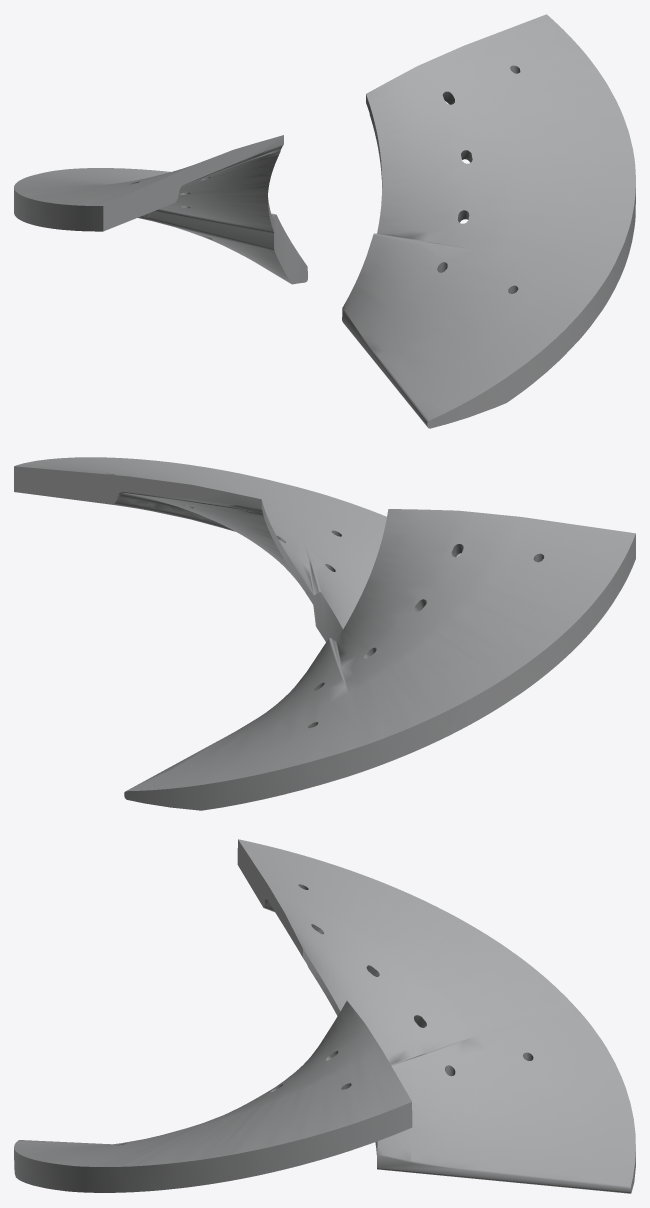
File: verti-shoe-liners.glb
The picture shows the model from 3 angles, top to bottom: view 1: azimuth 30°, elevation 25°; view 2: azimuth 150°, elevation 25°; view 3: azimuth 270°, elevation 25°; orthographic projection.
Visible parts, largest first — view 1: sinterCeramic; view 2: sinterCeramic; view 3: sinterCeramic.
Boxes of the visible parts, left/top/right/bottom form: sinterCeramic: left=14, top=14, right=635, bottom=428; sinterCeramic: left=14, top=457, right=635, bottom=810; sinterCeramic: left=14, top=839, right=635, bottom=1193.
Bounding box in the file's own units: 4.85 × 1.7 × 4.7.
1 material, 1 textured.
